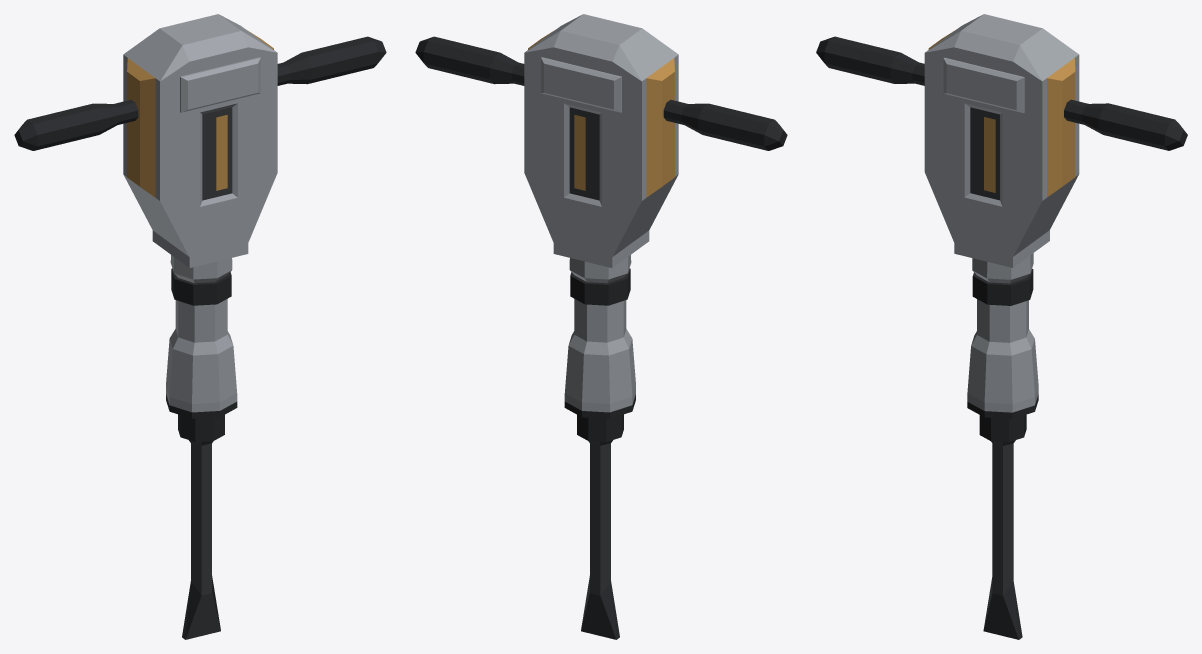
The model's file is SM_Tool_Concrete_Breaker_Jackhammer_01.glb.
3 views of the same model, side by side, from view 1: azimuth 30°, elevation 25°; view 2: azimuth 150°, elevation 25°; view 3: azimuth 330°, elevation 25° (orthographic).
Parts seen in each view (by area): view 1: SM_Tool_Concrete_Breaker_Jackhammer_01, SM_Tool_Concrete_Breaker_Jackhammer_01_Bit; view 2: SM_Tool_Concrete_Breaker_Jackhammer_01, SM_Tool_Concrete_Breaker_Jackhammer_01_Bit; view 3: SM_Tool_Concrete_Breaker_Jackhammer_01, SM_Tool_Concrete_Breaker_Jackhammer_01_Bit.
Boxes of the visible parts, <box> form: SM_Tool_Concrete_Breaker_Jackhammer_01: <box>14,14,386,441</box>; SM_Tool_Concrete_Breaker_Jackhammer_01_Bit: <box>182,440,220,639</box>; SM_Tool_Concrete_Breaker_Jackhammer_01: <box>415,14,787,441</box>; SM_Tool_Concrete_Breaker_Jackhammer_01_Bit: <box>581,440,619,639</box>; SM_Tool_Concrete_Breaker_Jackhammer_01: <box>816,14,1187,442</box>; SM_Tool_Concrete_Breaker_Jackhammer_01_Bit: <box>983,440,1022,639</box>.
Size of the model in its own units: 0.7275 by 1.16 by 0.1481.
1 material, 1 textured.
